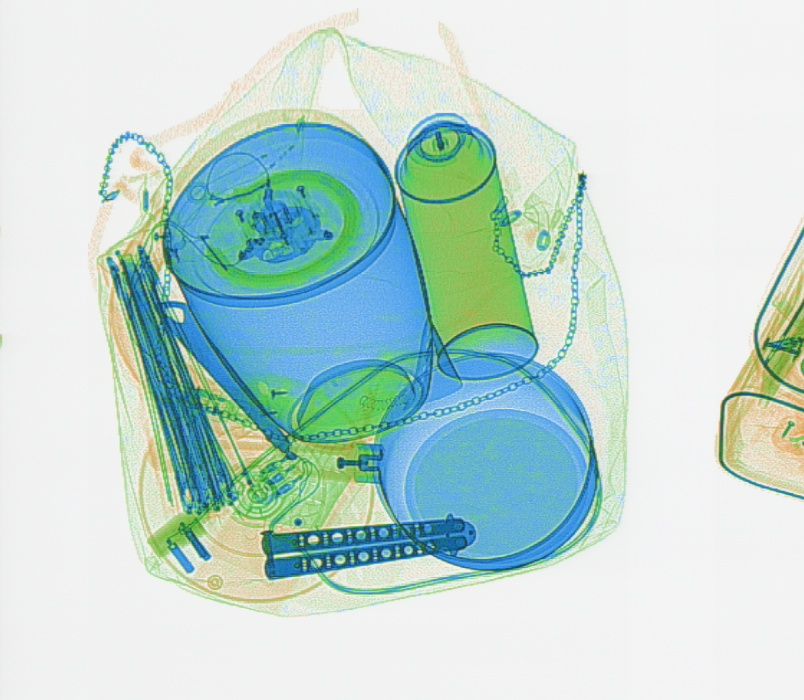knife: (255, 509, 478, 578)
pressure: (391, 111, 538, 381)
